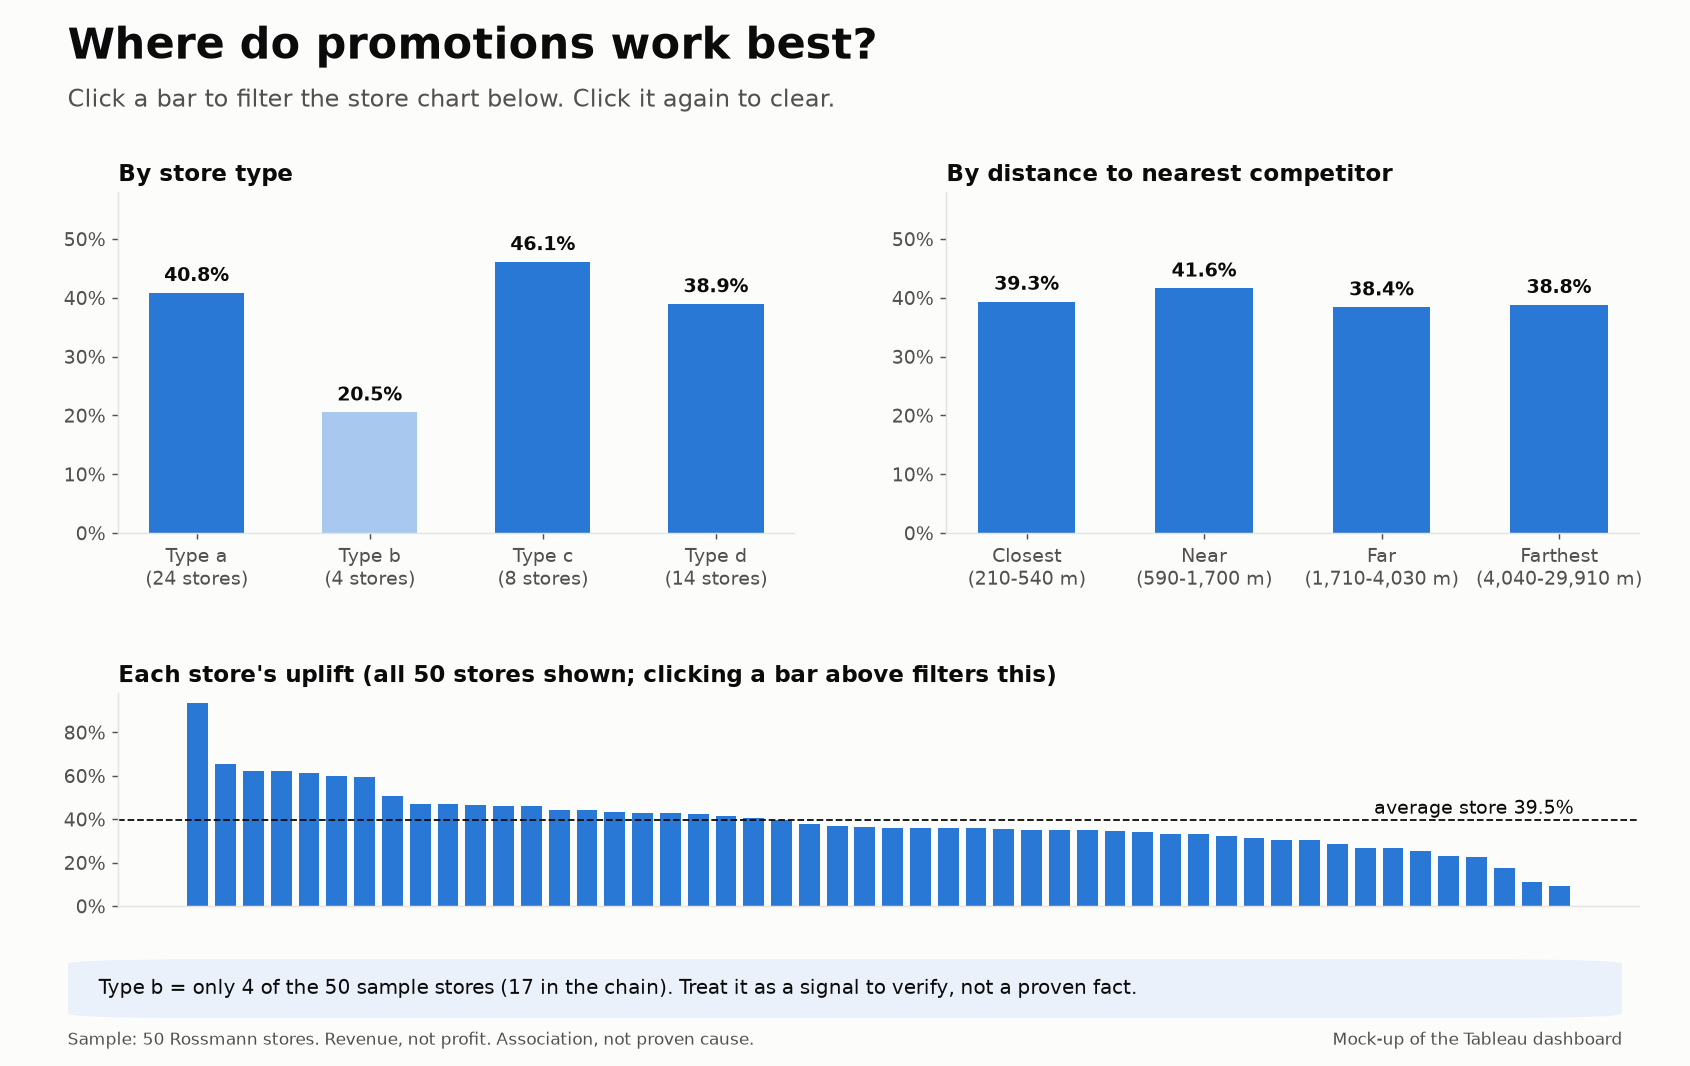

What the dashboard file says about the page in this screenshot:
{"tool":"tableau","page":{"name":"Dashboard 1","canvas":[1000,1000],"units":"permille","ordinal":0},"visuals":[{"type":"worksheet","title":"Sheet 1","mark":"Automatic","box":[6.4,10.7,269.1,238.9]},{"type":"worksheet","title":"Sheet 2","mark":"Automatic","box":[275.5,10.7,306.2,238.9]},{"type":"worksheet","title":"Sheet 3","mark":"Text","box":[581.6,10.7,284.9,238.9]},{"type":"legend","title":"Sheet 4","param":"[federated.06fl1ii17ogc4s10ol3xh1hn9xuj].[none:PromoLabel:nk]","box":[866.6,10.7,127.1,88.4]},{"type":"worksheet","title":"Sheet 4","mark":"Automatic","rows":["AvgSales"],"cols":["PromoLabel"],"box":[6.4,249.7,860.2,739.6]}]}

Visuals, with their boxes on the dashboard's canvas, which has no fixed pixel size, in thousandths of its width and height (x1, y1, x2, y2). These are canvas units, not pixel positions in the 1690x1066 screenshot, which may show the page scaled, cropped or inside an application window:
"Sheet 1" worksheet: select_region(6, 11, 276, 250)
"Sheet 2" worksheet: select_region(276, 11, 582, 250)
"Sheet 3" worksheet (Text marks): select_region(582, 11, 866, 250)
"Sheet 4" legend: select_region(867, 11, 994, 99)
"Sheet 4" worksheet: select_region(6, 250, 867, 989)
